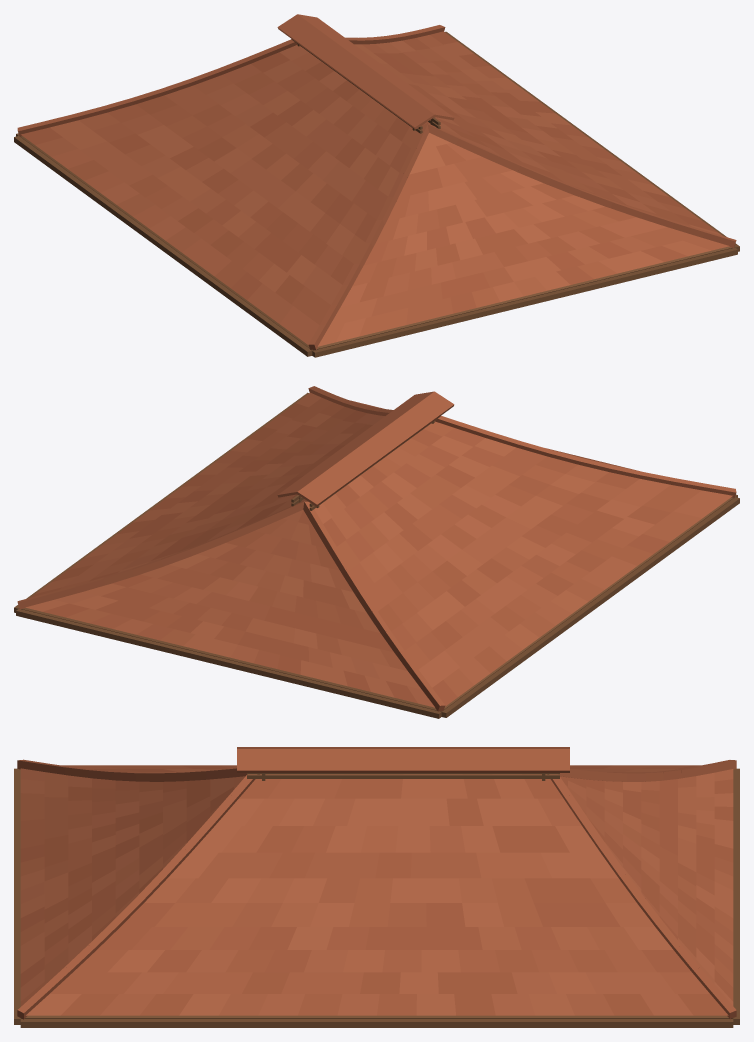
Rendered from kopi-awan-roof-b.glb.
3 views of the same model, one above another, from view 1: azimuth 30°, elevation 25°; view 2: azimuth 150°, elevation 25°; view 3: azimuth 270°, elevation 25° (orthographic). The views are drawn at different scales.
Parts seen in each view (by area): view 1: RoofBModule; view 2: RoofBModule; view 3: RoofBModule.
Part boxes in pixels (box(x1,y1,x2,y2)): RoofBModule: box(14, 14, 739, 357); RoofBModule: box(14, 386, 739, 718); RoofBModule: box(14, 747, 739, 1027).
Size of the model in its own units: 9.1 by 2.5 by 10.9.
